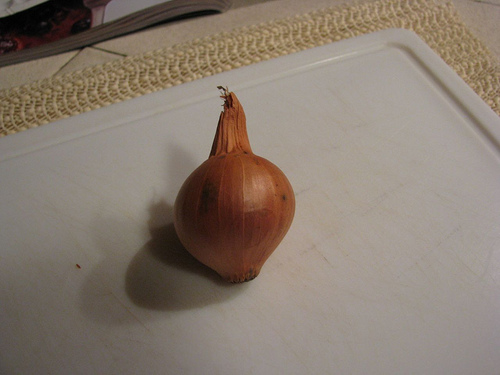onion: (172, 91, 298, 286)
